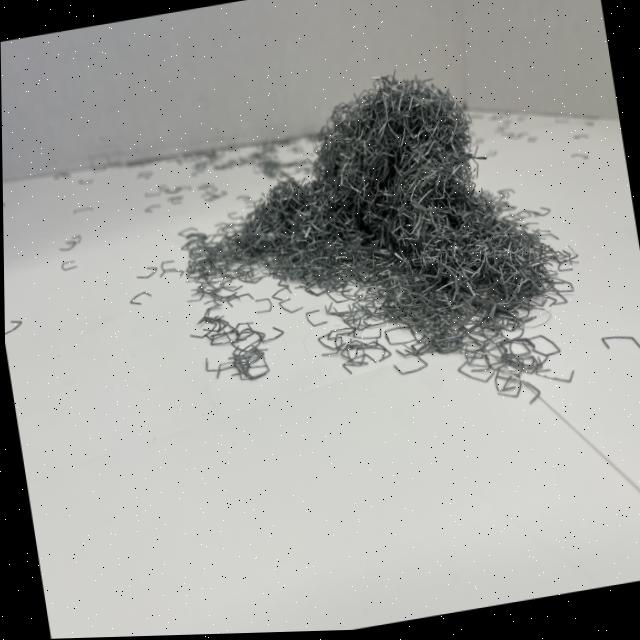staples: (154, 42, 594, 419)
